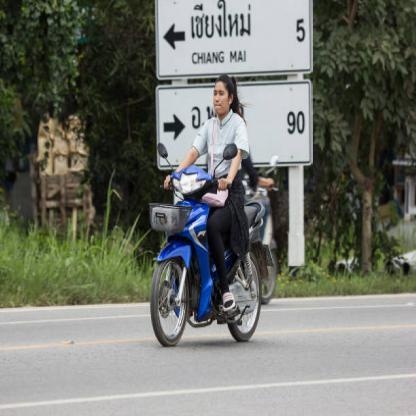Motorcycle: (147, 136, 269, 348)
